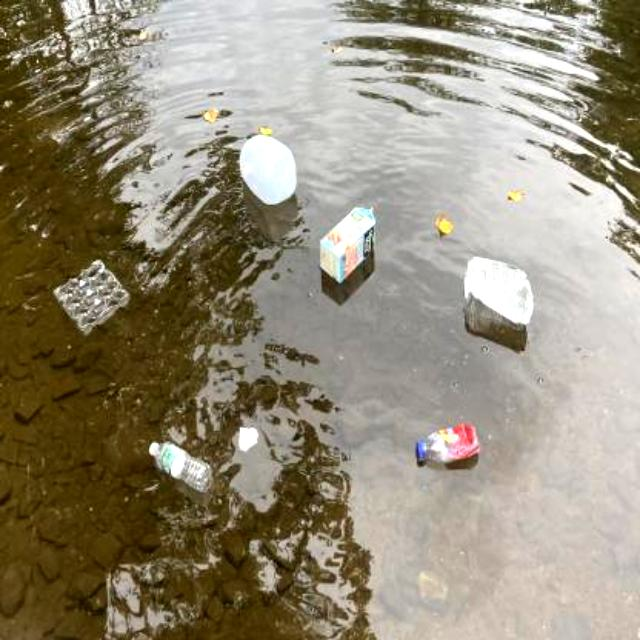Cardboard: (316, 200, 378, 292)
Metal: (456, 248, 536, 336)
Paper: (233, 416, 260, 456)
Plastic: (51, 252, 135, 340), (233, 127, 303, 205), (409, 416, 487, 472), (146, 435, 214, 495)
